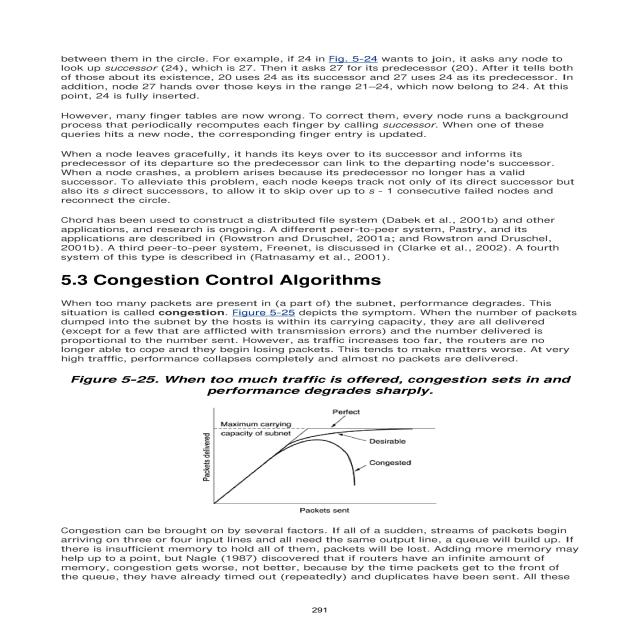diagram: (10, 369, 589, 517)
